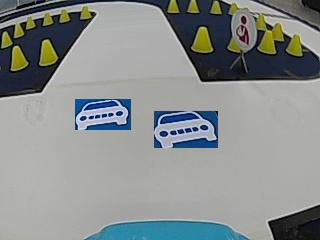cone: (190, 26, 213, 53), (38, 39, 58, 66), (10, 45, 28, 70), (258, 31, 276, 54), (287, 33, 302, 56), (1, 31, 13, 47), (79, 5, 91, 20), (255, 13, 266, 29), (13, 22, 25, 36), (167, 0, 179, 13), (187, 0, 199, 13), (210, 1, 222, 14), (59, 8, 70, 22), (42, 12, 53, 25), (26, 15, 36, 28)
patient: (232, 9, 255, 49)
